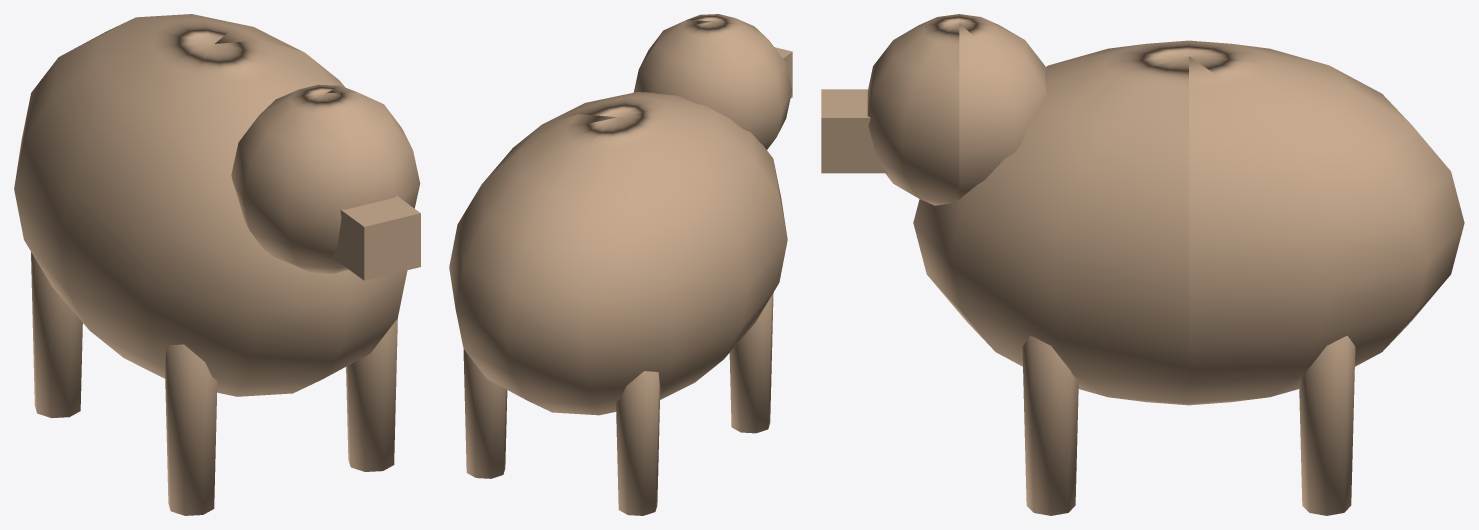
3 renders of one model, left to right at view 1: azimuth 30°, elevation 25°; view 2: azimuth 150°, elevation 25°; view 3: azimuth 270°, elevation 25°, orthographic. The views are drawn at different scales.
Visible parts, largest first — view 1: Generated3DMesh; view 2: Generated3DMesh; view 3: Generated3DMesh.
Part boxes in pixels (<box>): Generated3DMesh: <box>14,14,420,515</box>; Generated3DMesh: <box>449,14,792,515</box>; Generated3DMesh: <box>821,14,1464,515</box>.
Size of the model in its own units: 1.2 by 1.58 by 2.1.
